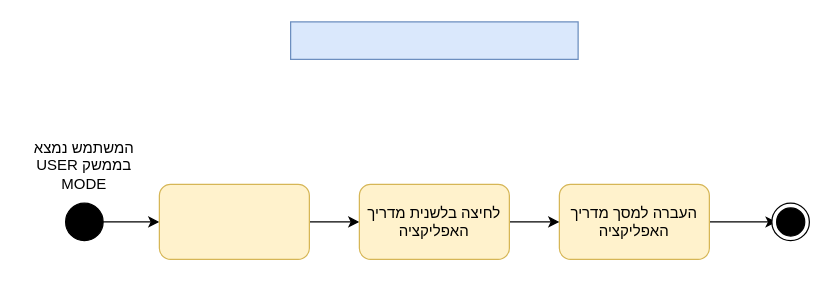
Some shapes in this 831 by 281 pixel diagram are drawn without their labels. Each missing label, with the centre of its shape:
"גישה לטפריט" goes at point (233, 221).
"גישה למדריך האפליקציה" goes at point (433, 40).
